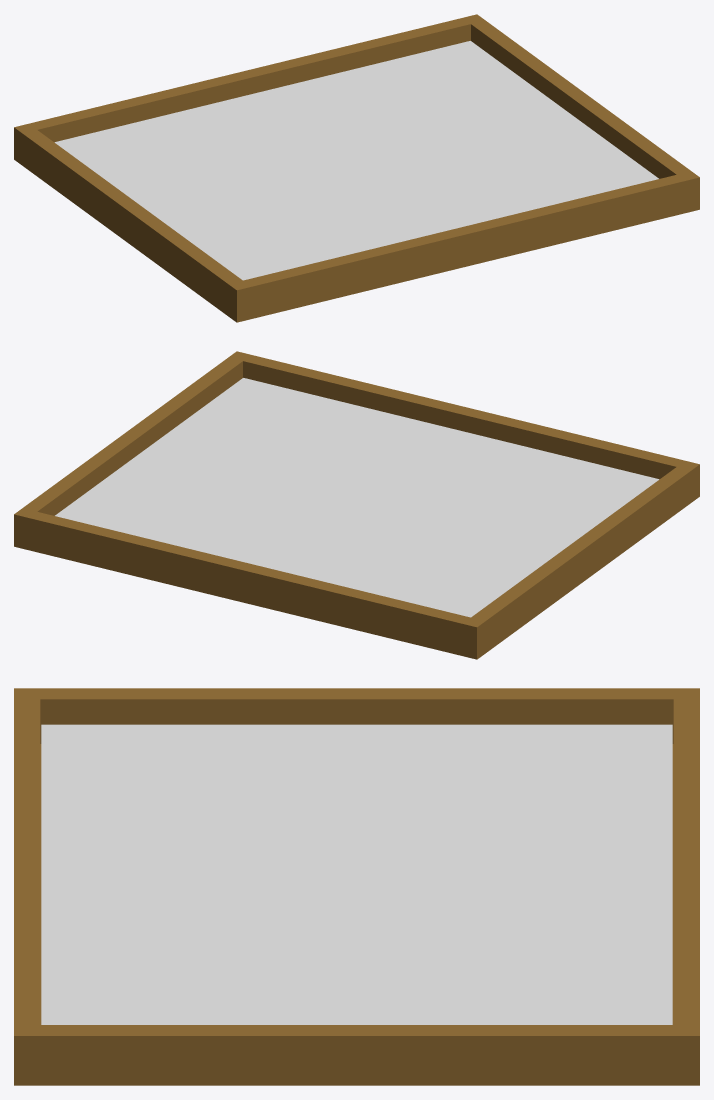
Rendered from frame2_5x3.fbx.
3 views of the same model, one above another, from view 1: azimuth 30°, elevation 25°; view 2: azimuth 150°, elevation 25°; view 3: azimuth 270°, elevation 25° (orthographic). The views are drawn at different scales.
Parts seen in each view (by area): view 1: canvas2.5x3, frame2.5x3; view 2: canvas2.5x3, frame2.5x3; view 3: canvas2.5x3, frame2.5x3.
Boxes of the visible parts, left/top/right/bottom form: canvas2.5x3: left=54, top=41, right=658, bottom=280; frame2.5x3: left=14, top=14, right=699, bottom=322; canvas2.5x3: left=55, top=378, right=659, bottom=617; frame2.5x3: left=14, top=351, right=699, bottom=659; canvas2.5x3: left=41, top=724, right=672, bottom=1024; frame2.5x3: left=14, top=688, right=699, bottom=1085.
Bounding box in the file's own units: 300 × 20 × 250.
